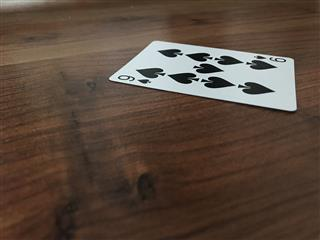NineOfSpades: (107, 39, 297, 112)
